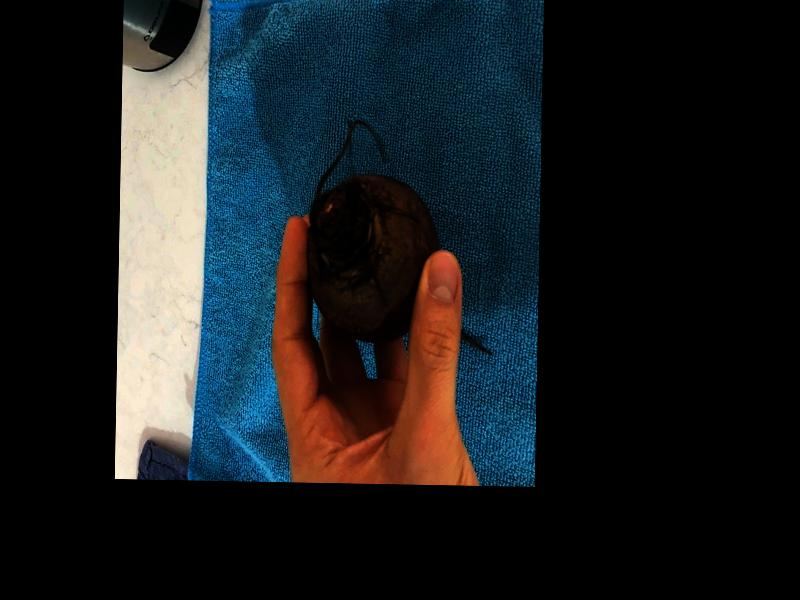Beet: (306, 120, 495, 354)
